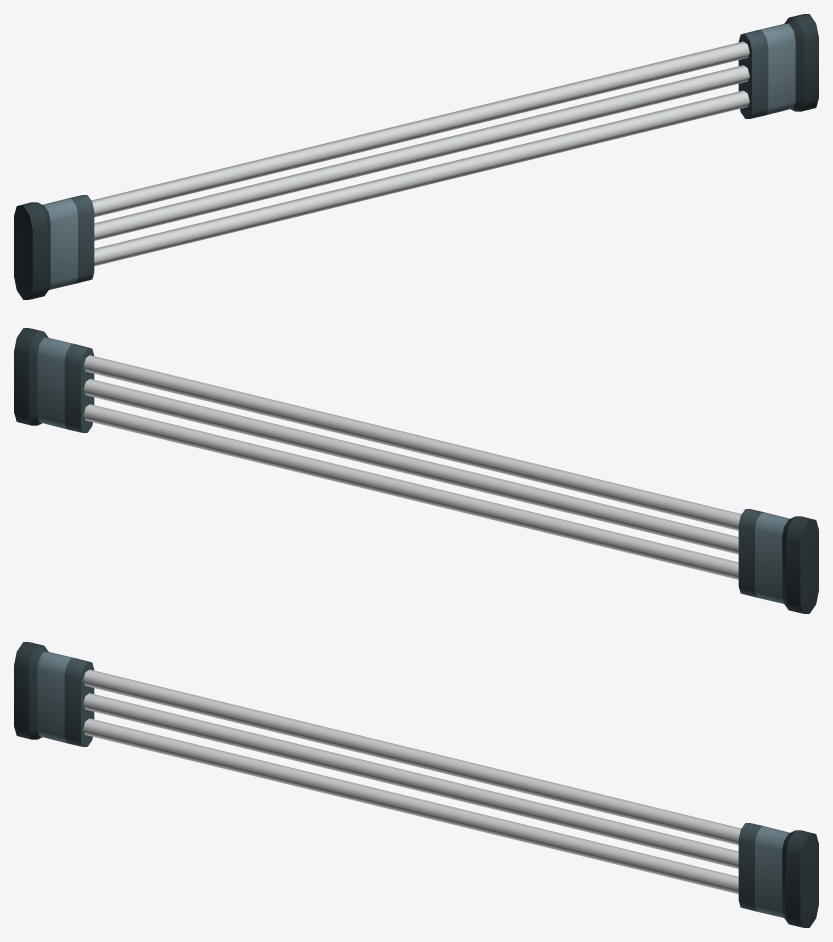
File: Cable_type_B_006.glb
3 renders of one model, top to bottom at view 1: azimuth 30°, elevation 25°; view 2: azimuth 150°, elevation 25°; view 3: azimuth 330°, elevation 25°, orthographic.
Visible parts, largest first — view 1: Cable_type_B_006; view 2: Cable_type_B_006; view 3: Cable_type_B_006.
Part boxes in pixels (x1,y1,x2,y2): Cable_type_B_006: (14, 14, 818, 299); Cable_type_B_006: (14, 328, 818, 613); Cable_type_B_006: (14, 642, 818, 927).
Size of the model in its own units: 1.92 by 0.2187 by 0.0783.
Materials: 1 (1 with a texture image).
